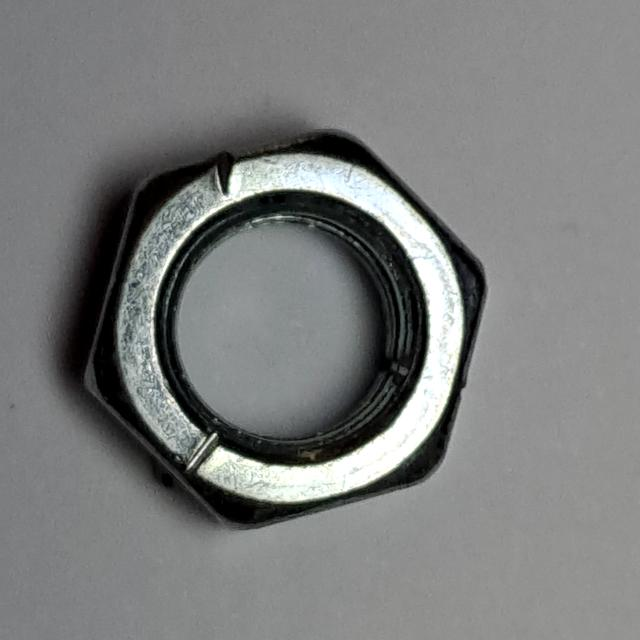Scratches: (65, 113, 503, 550)
